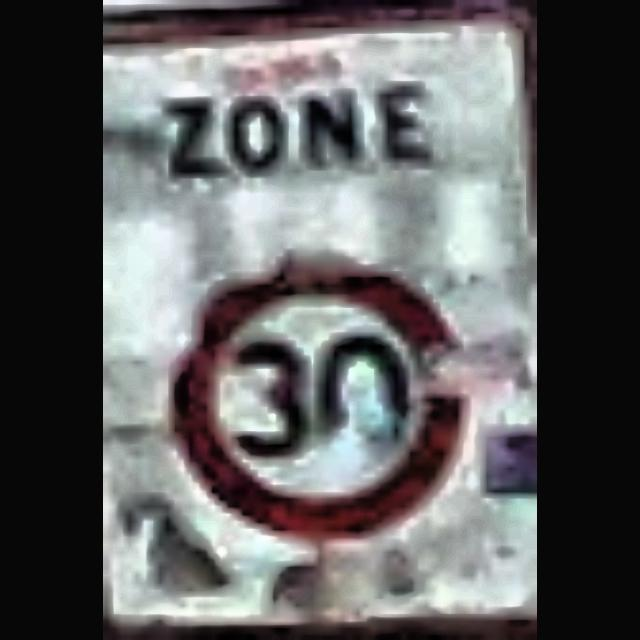speed_30: (174, 262, 466, 538)
